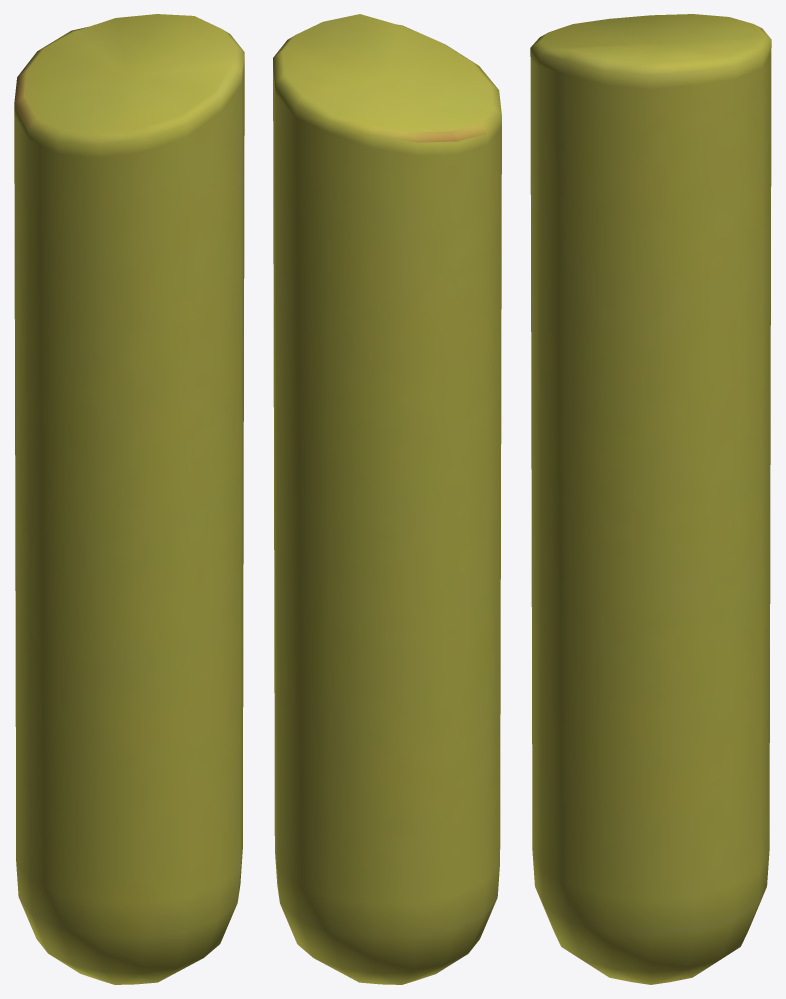
File: test_tube_content_b.glb
3 renders of one model, left to right at view 1: azimuth 30°, elevation 25°; view 2: azimuth 150°, elevation 25°; view 3: azimuth 270°, elevation 25°, orthographic. The views are drawn at different scales.
Visible parts, largest first — view 1: chemistry_set_test_tube_content_b.001; view 2: chemistry_set_test_tube_content_b.001; view 3: chemistry_set_test_tube_content_b.001.
Boxes of the visible parts, left/top/right/bottom form: chemistry_set_test_tube_content_b.001: left=14, top=14, right=244, bottom=984; chemistry_set_test_tube_content_b.001: left=273, top=14, right=501, bottom=984; chemistry_set_test_tube_content_b.001: left=530, top=14, right=771, bottom=984.
Size of the model in its own units: 0.0127 by 0.0551 by 0.0127.
Materials: 1 (1 with a texture image).
